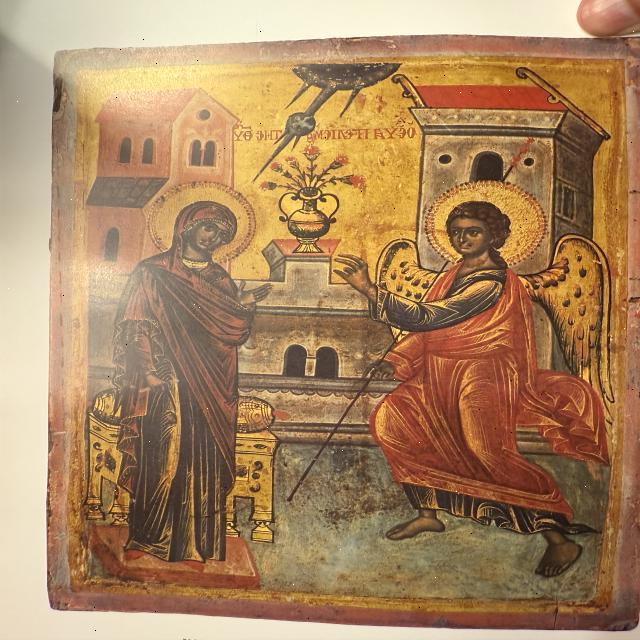angel: (309, 173, 634, 584)
aura: (417, 179, 549, 266), (146, 182, 258, 266)
mary: (86, 171, 282, 564)
wing: (516, 234, 631, 410), (363, 240, 447, 327)
